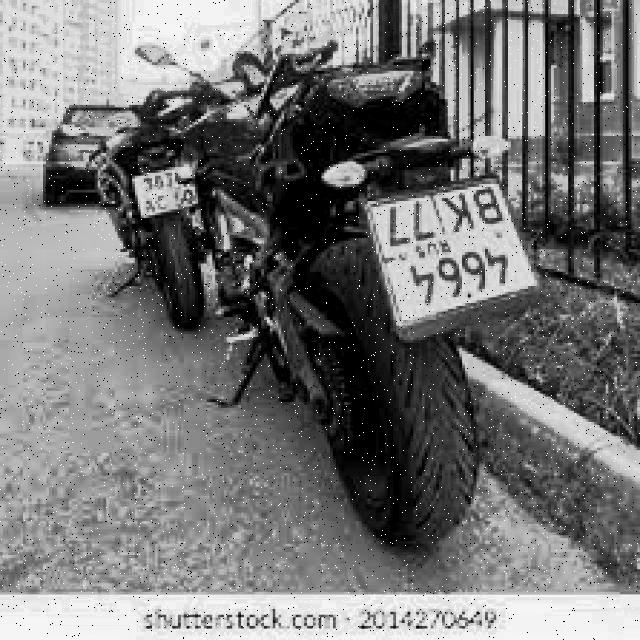Bike: (207, 69, 587, 555), (79, 112, 201, 301)
